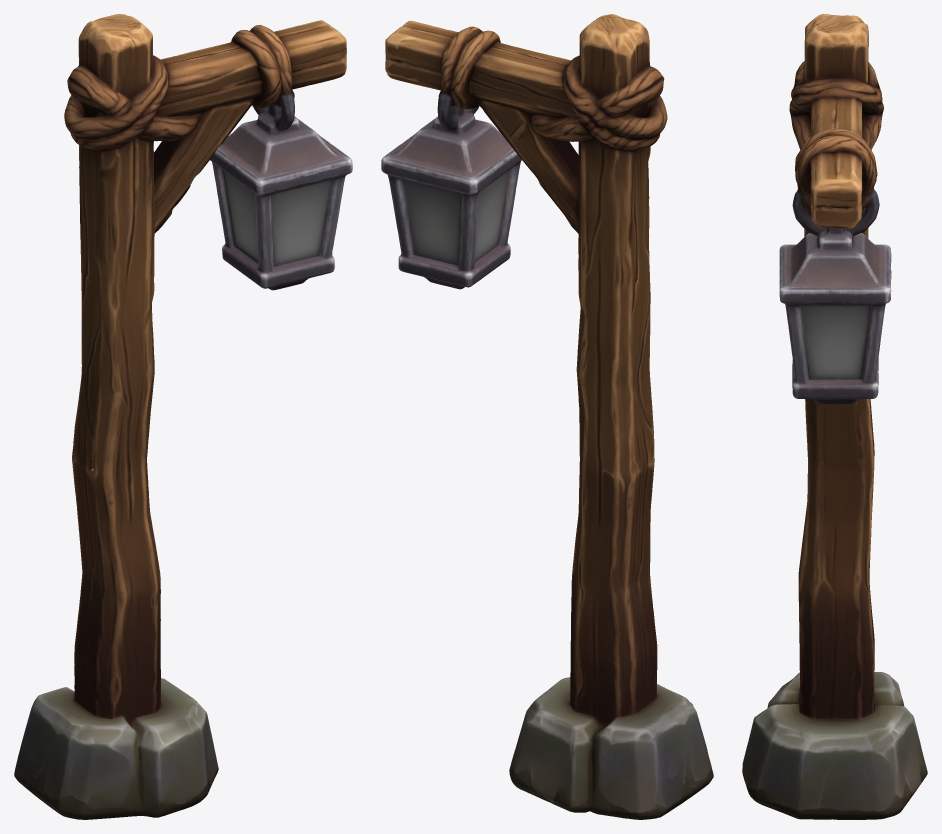
Rendered from StreetLight.glb.
The picture shows the model from 3 angles, left to right: view 1: azimuth 30°, elevation 25°; view 2: azimuth 150°, elevation 25°; view 3: azimuth 270°, elevation 25°; orthographic projection.
Parts seen in each view (by area): view 1: world; view 2: world; view 3: world.
Boxes of the visible parts, bbox=[...] form: world: bbox=[14, 14, 352, 819]; world: bbox=[381, 14, 713, 819]; world: bbox=[742, 14, 927, 819].
Bounding box in the file's own units: 0.4131 × 1 × 0.2221.
Materials: 1 (1 with a texture image).
